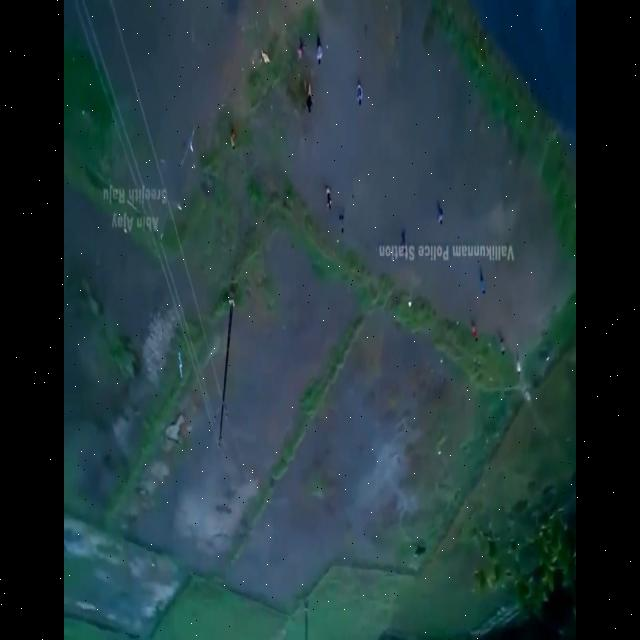humans: (302, 74, 314, 120), (476, 262, 489, 300), (432, 194, 444, 235), (225, 121, 239, 155), (314, 27, 324, 72), (468, 310, 479, 350), (324, 179, 336, 213), (354, 78, 364, 114), (398, 226, 409, 258), (335, 206, 345, 240), (498, 329, 508, 357), (296, 32, 305, 60), (514, 352, 522, 383)
